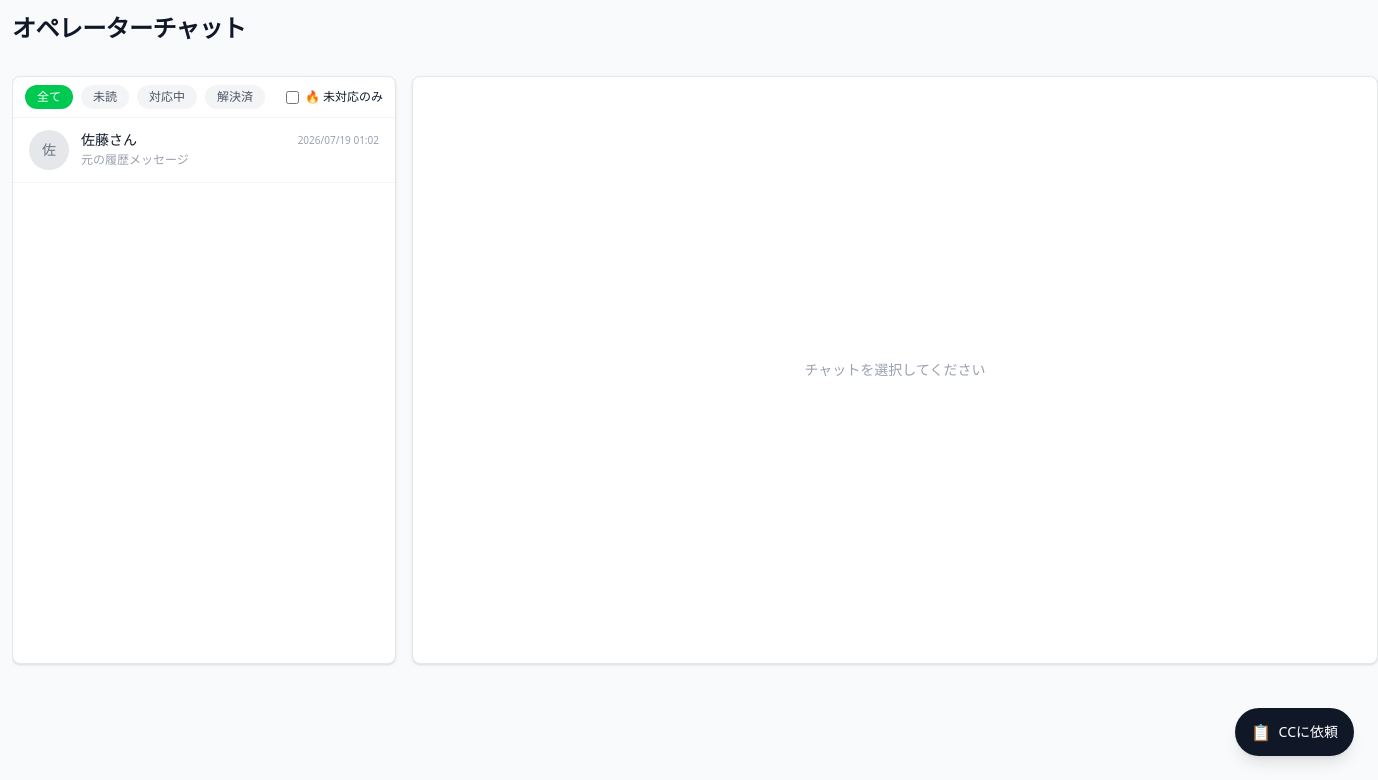
チャット詳細のモバイル配置 › 戻る・avatar・長い名前・操作を1行のコンパクトheaderへ収める
What coordinates should you click on to do the following:
click the button "佐 佐藤さん 2026/07/19 01:02 元の履歴メッセージ"
I would click on:
 (49, 150)
Its box is [13,118,395,183].
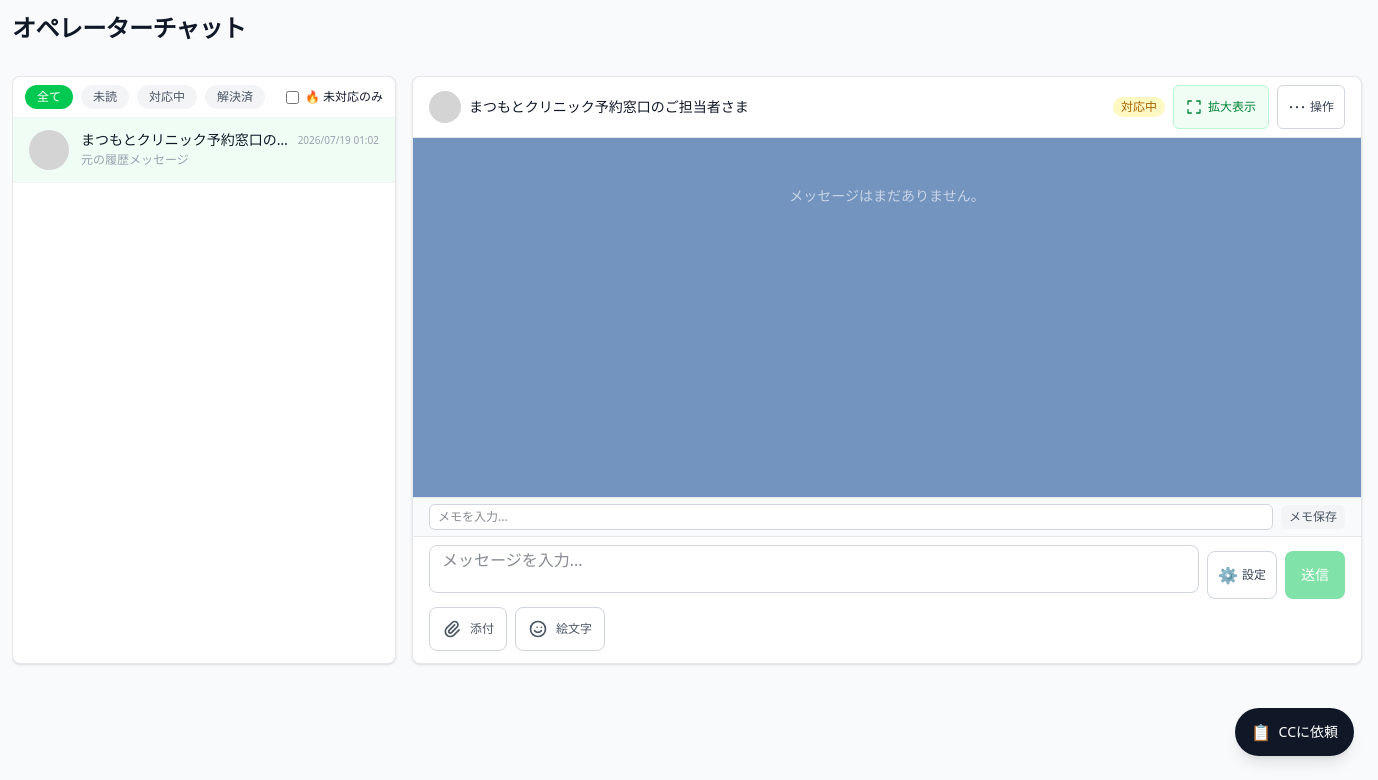
Now the button with aria-label "チャット履歴を拡大表示" is shown, box [1173,85,1269,129]
What coordinates should you click on to do the following:
click the button with aria-label "対応操作"
I would click on:
 (1311, 107)
Its box is [1277,85,1345,129].
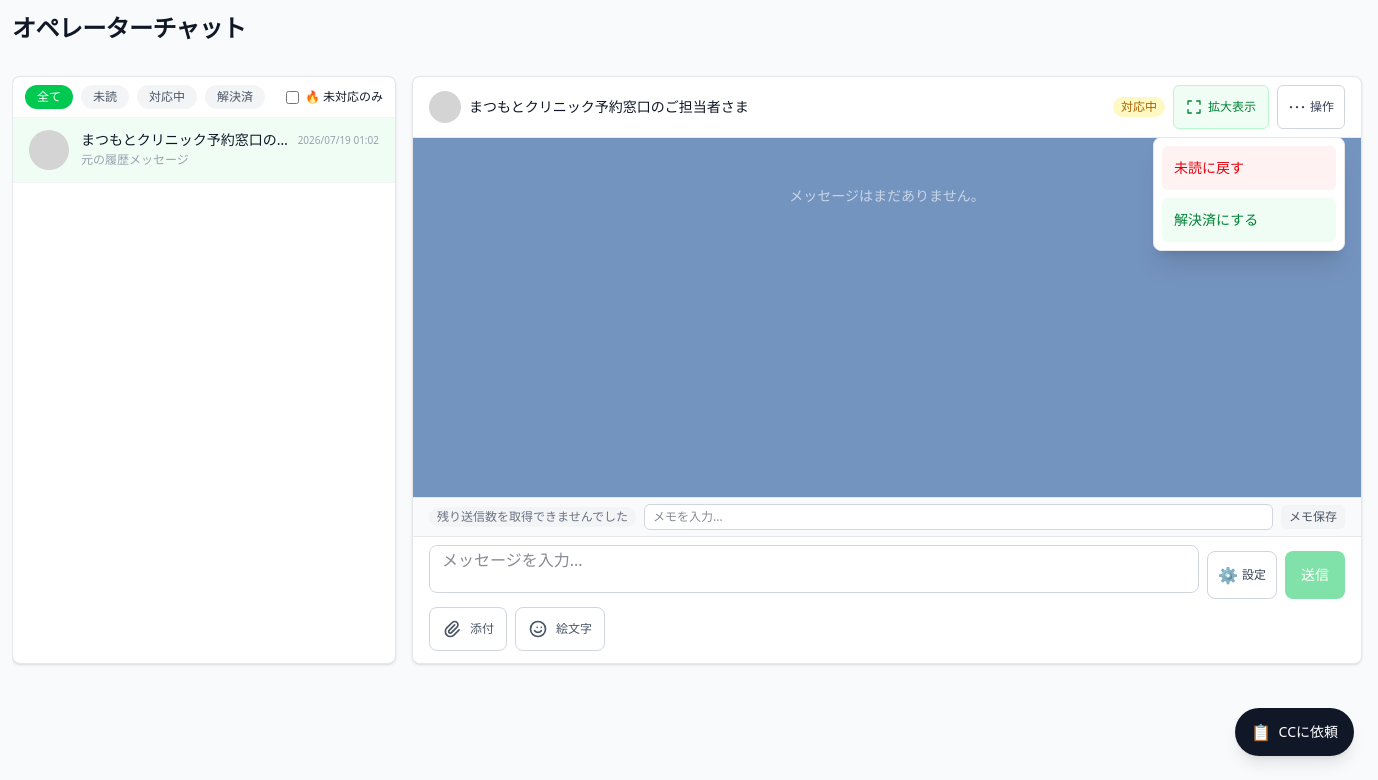
Now the button "未読に戻す" is shown, box [1162,146,1336,190]
Now the button "解決済にする" is shown, box [1162,198,1336,242]
